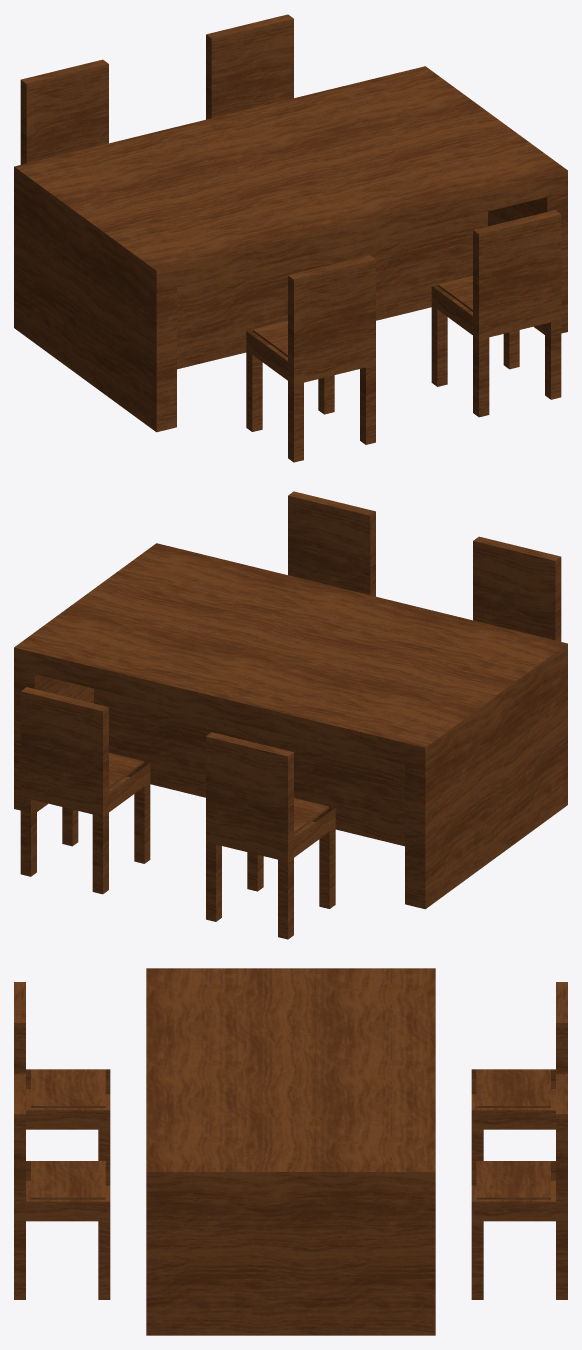
Rendered from table_chairs.glb.
3 views of the same model, one above another, from view 1: azimuth 30°, elevation 25°; view 2: azimuth 150°, elevation 25°; view 3: azimuth 270°, elevation 25° (orthographic).
Visible parts, largest first — view 1: Geom3D; view 2: Geom3D; view 3: Geom3D.
Part boxes in pixels (left/top/right/bottom): Geom3D: left=14, top=14, right=567, bottom=462; Geom3D: left=14, top=491, right=567, bottom=939; Geom3D: left=14, top=968, right=567, bottom=1335.
Size of the model in its own units: 2 by 0.85 by 2.3.
1 material, 1 textured.
